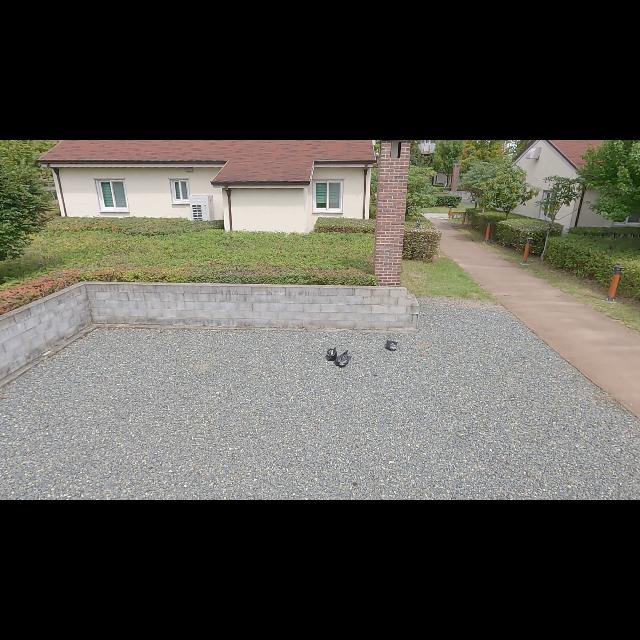trash: (334, 349, 352, 367), (384, 337, 398, 351), (326, 346, 338, 362)
